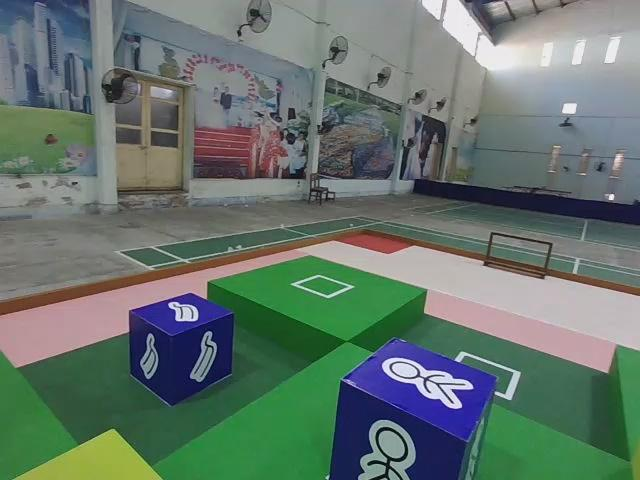R2 Real Blue: (336, 340, 499, 480), (131, 293, 237, 408)
